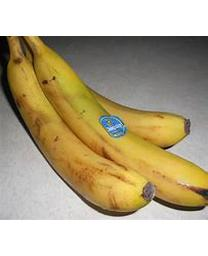banana: (1, 37, 202, 214)
